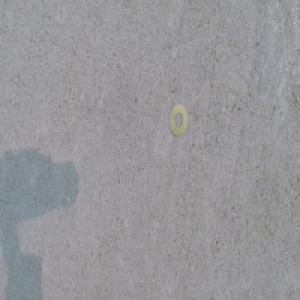Washer: (168, 104, 189, 137)
